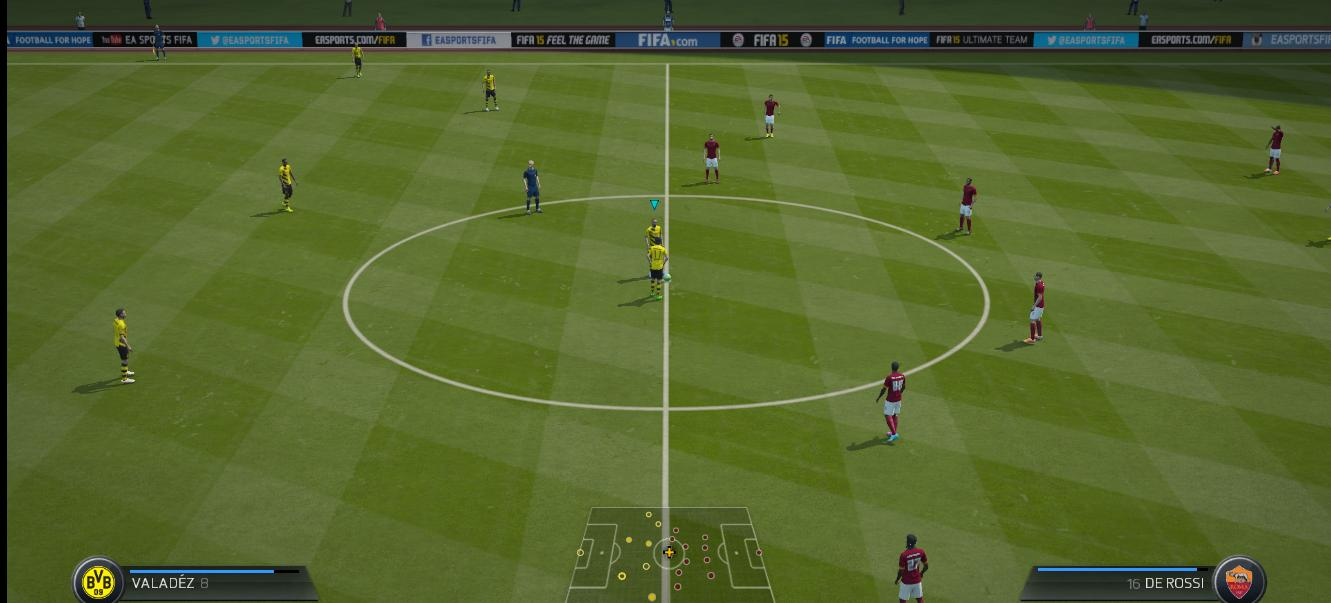ball: (663, 270, 673, 281)
player: (893, 529, 933, 601), (107, 309, 136, 383), (882, 356, 906, 439), (1027, 272, 1049, 343), (274, 156, 300, 209), (699, 135, 723, 185), (959, 175, 978, 234), (1266, 120, 1288, 170), (479, 71, 505, 112), (650, 239, 665, 293), (647, 216, 659, 269), (764, 92, 777, 139), (350, 43, 368, 76)
